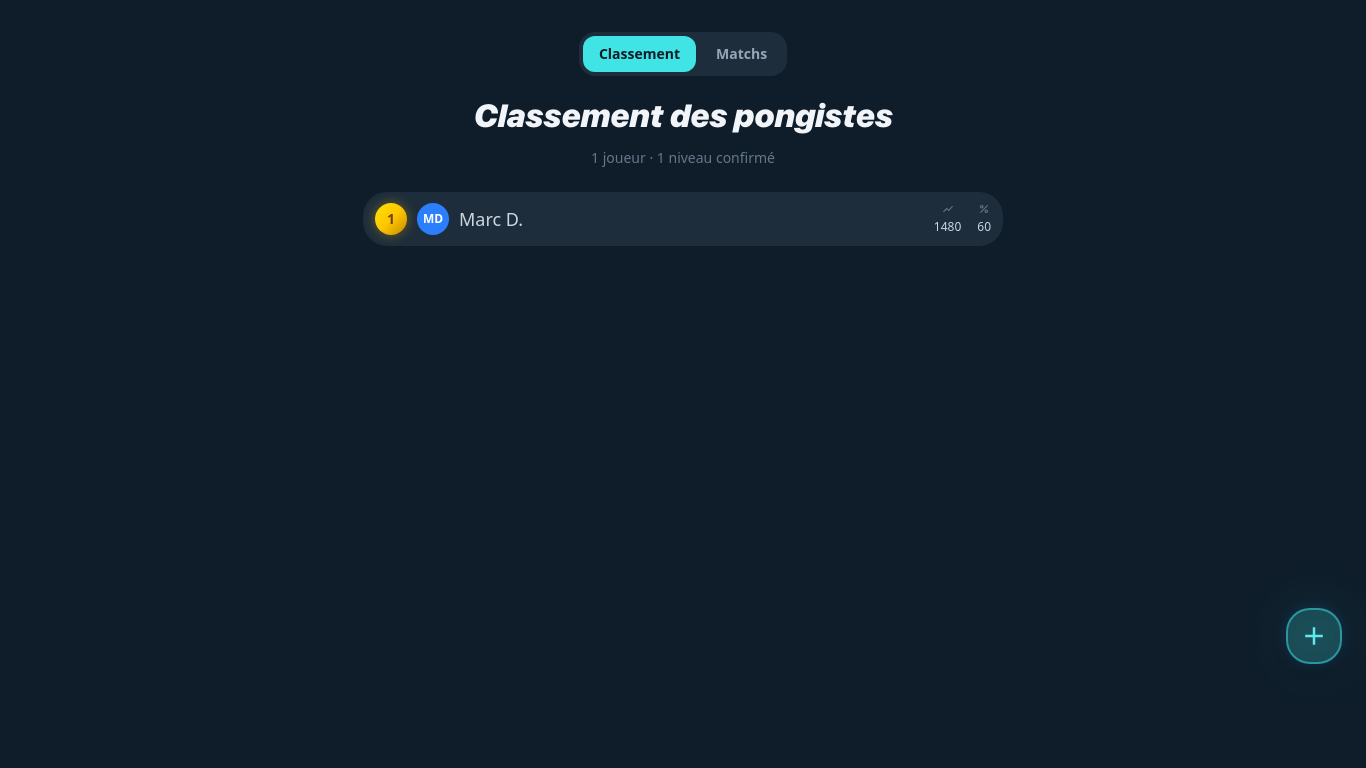
Test: PingpongPage › the detail sheet › closes again
What coordinates should you click on to do the following:
click the button with test id "pingpong-row"
I would click on:
 (391, 219)
Its box is left=363, top=192, right=1003, bottom=246.
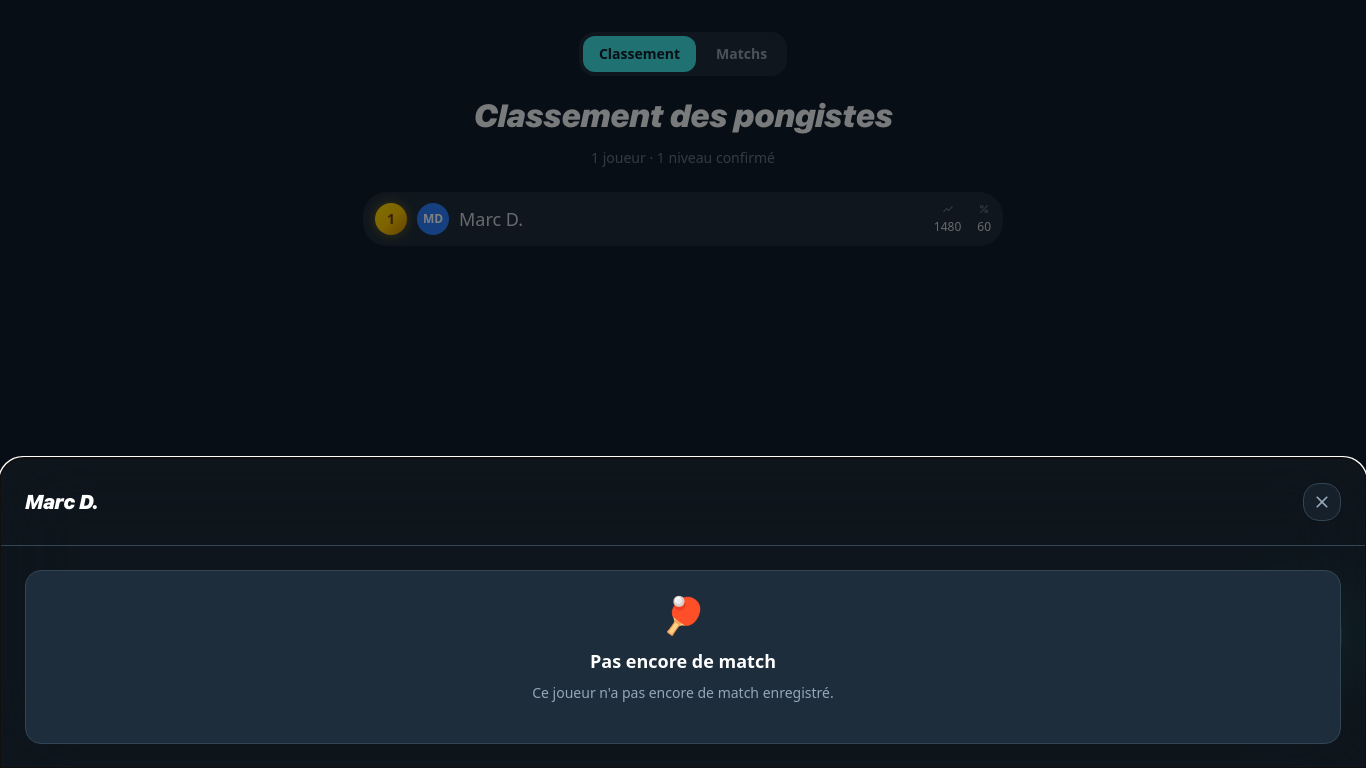
Expected: the dialog is shown, left=0, top=458, right=1365, bottom=767
What coordinates should you click on to do the following:
click the button named "fermer"
I would click on:
 (1322, 502)
Its box is left=1303, top=483, right=1341, bottom=521.
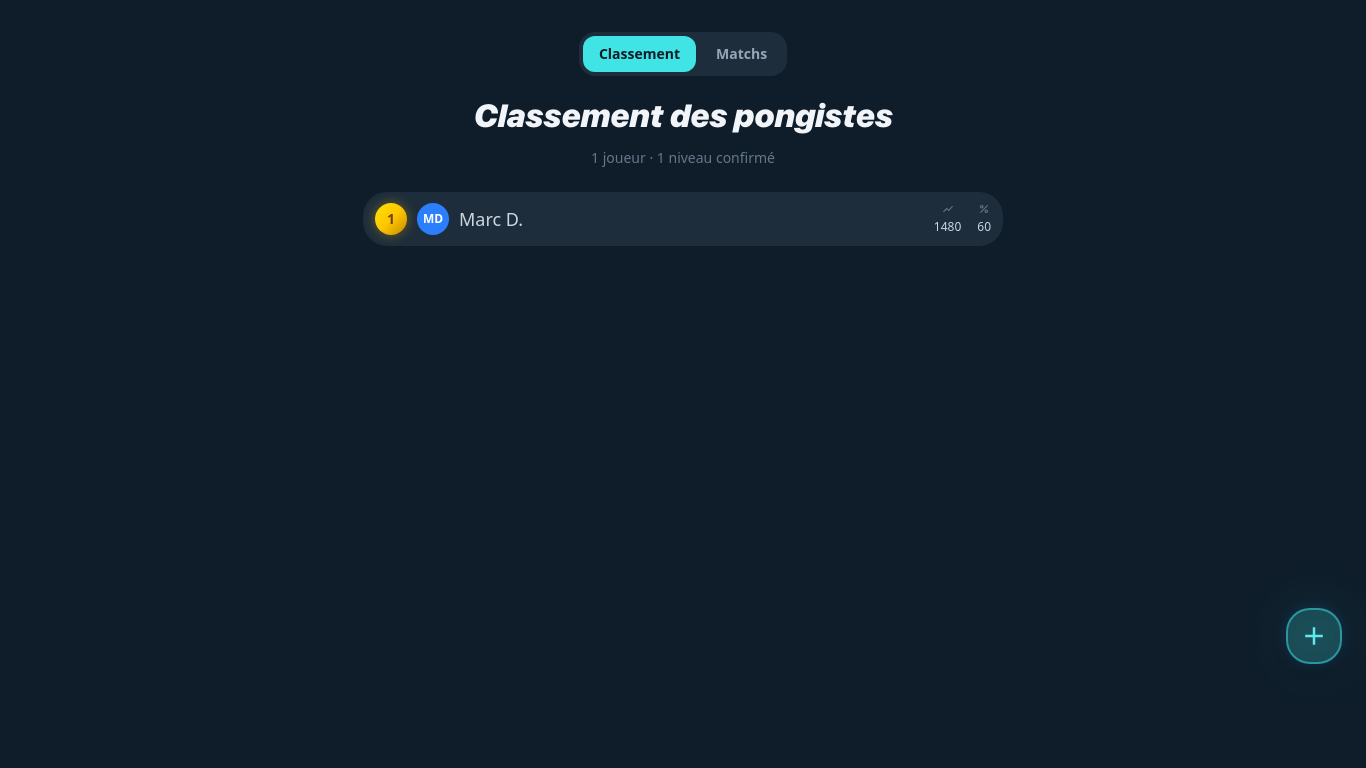
Expected: the dialog is gone
